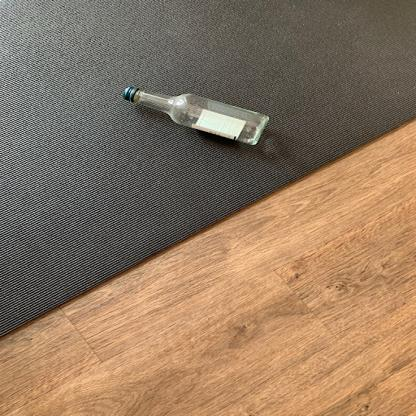trash: (122, 86, 270, 148)
